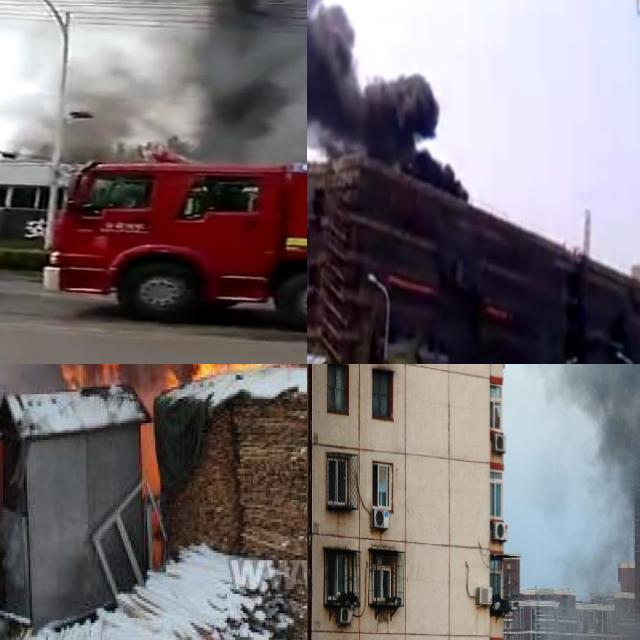fire: (58, 364, 121, 386), (180, 364, 303, 374)
smoke: (55, 0, 307, 148), (506, 364, 640, 640), (307, 0, 465, 198)
